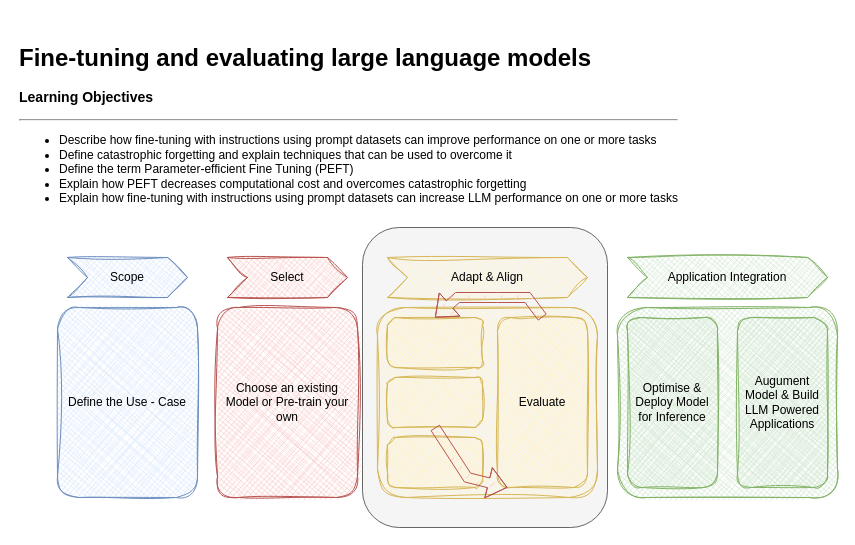
The diagram is 855 pixels wide and 545 high, and some of its shapes have lost their labels. Each missing label, with the centre of its shape:
"Align with Human Feedback" goes at point (434, 462).
"Fine Tuning" goes at point (434, 402).
"Prompt Engineering" goes at point (434, 342).
